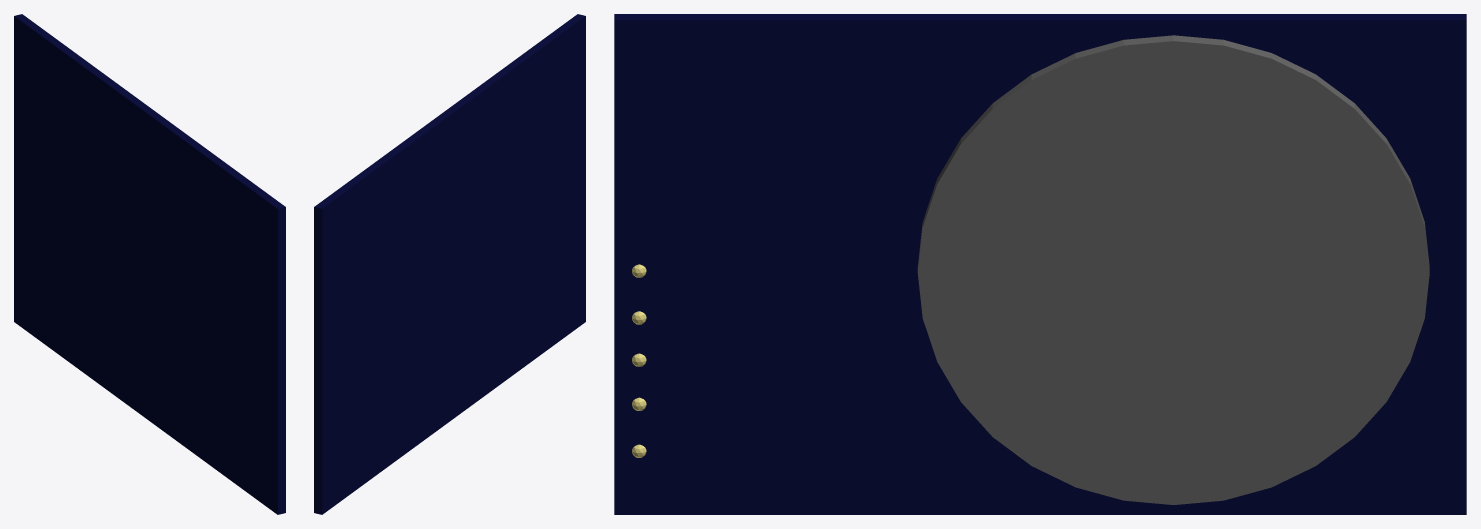
Rendered from Sternkarte.fbx.
3 views of the same model, side by side, from view 1: azimuth 30°, elevation 25°; view 2: azimuth 150°, elevation 25°; view 3: azimuth 270°, elevation 25° (orthographic). The views are drawn at different scales.
Visible parts, largest first — view 1: Cube; view 2: Cube; view 3: Cube, Circle.
Boxes of the visible parts, bbox=[...] form: Cube: bbox=[14, 14, 285, 514]; Cube: bbox=[314, 14, 585, 514]; Cube: bbox=[614, 14, 1466, 514]; Circle: bbox=[917, 35, 1429, 504].
Size of the model in its own units: 11.25 by 213 by 333.
